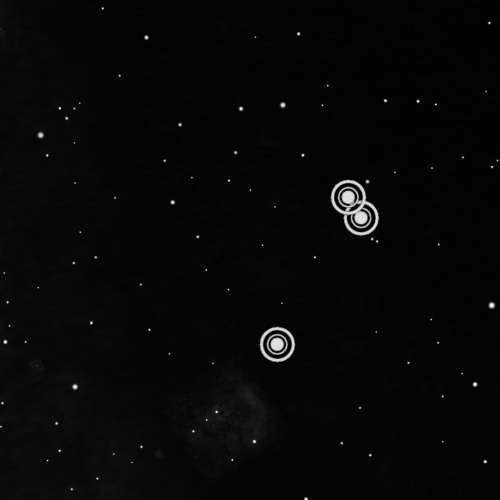canis_minor: (253, 174, 382, 371)
